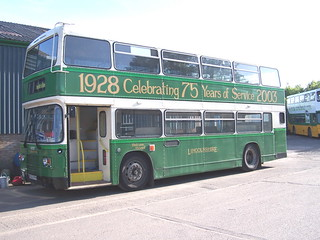bus: (20, 22, 287, 191)
